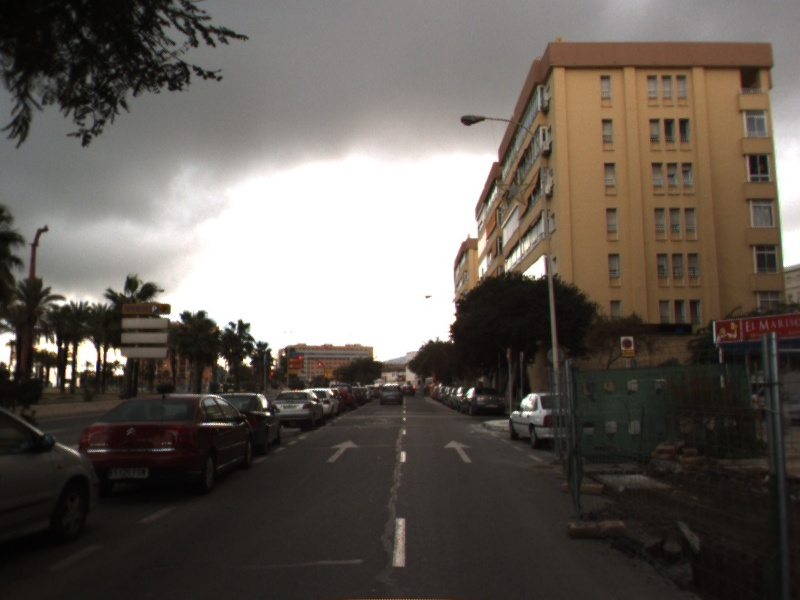STRAIGHT: (325, 438, 361, 464), (442, 439, 474, 464)
